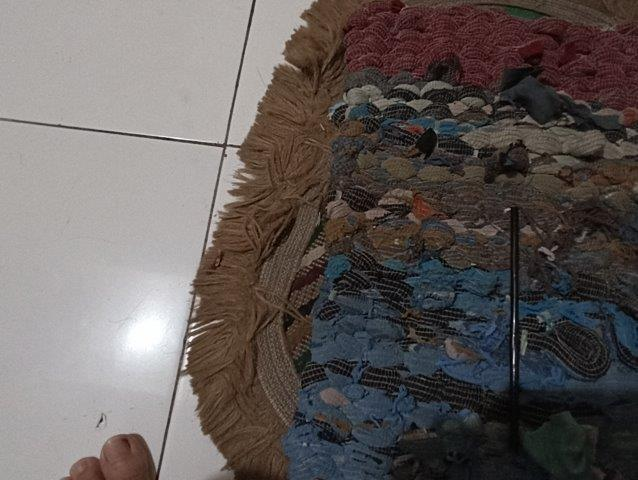sedotan: (511, 207, 521, 415)
